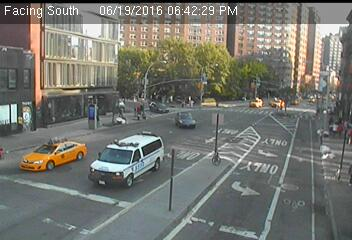neg: (139, 61, 161, 89), (85, 101, 106, 129), (127, 151, 146, 175), (212, 105, 230, 129), (220, 165, 238, 188), (266, 70, 283, 93), (60, 141, 77, 164), (256, 107, 273, 129), (174, 120, 190, 142), (291, 129, 307, 149), (95, 67, 110, 88), (287, 194, 297, 208)
